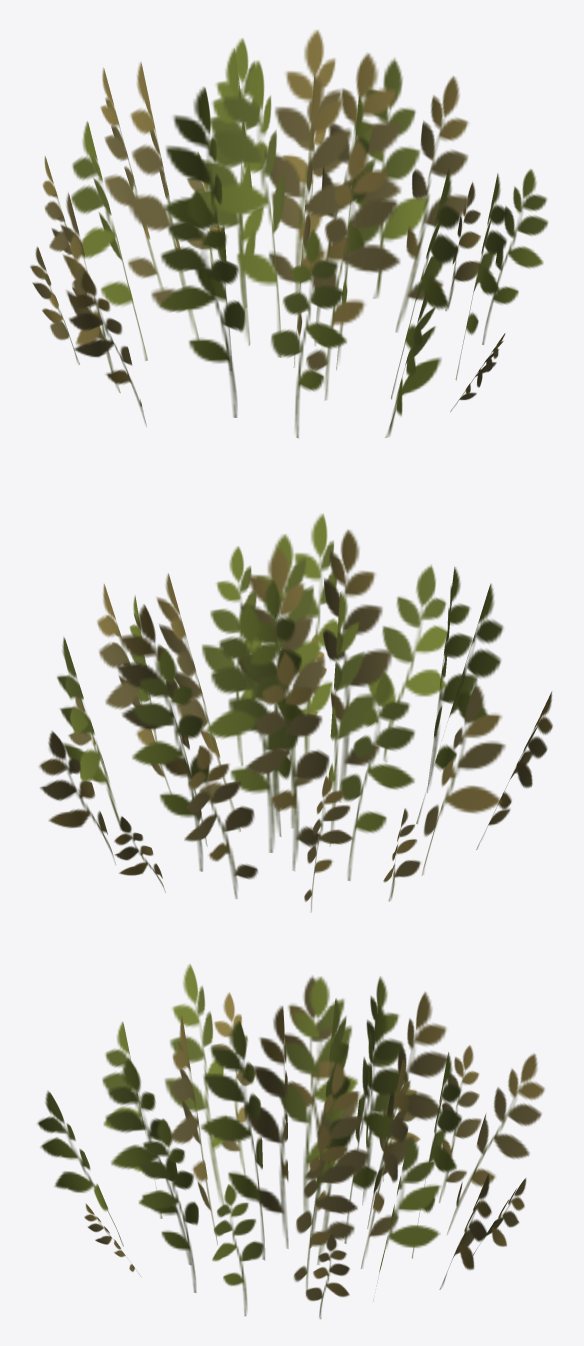
Rendered from Green_Patch_1.glb.
The picture shows the model from 3 angles, top to bottom: view 1: azimuth 30°, elevation 25°; view 2: azimuth 150°, elevation 25°; view 3: azimuth 270°, elevation 25°; orthographic projection. The views are drawn at different scales.
Parts seen in each view (by area): view 1: Green_Patch_1; view 2: Green_Patch_1; view 3: Green_Patch_1.
Part boxes in pixels (x1,y1,x2,y2): Green_Patch_1: [30, 30, 548, 438]; Green_Patch_1: [39, 513, 552, 912]; Green_Patch_1: [37, 964, 544, 1318].
Bounding box in the file's own units: 1.62 × 0.9825 × 1.83.
1 material, 1 textured.
